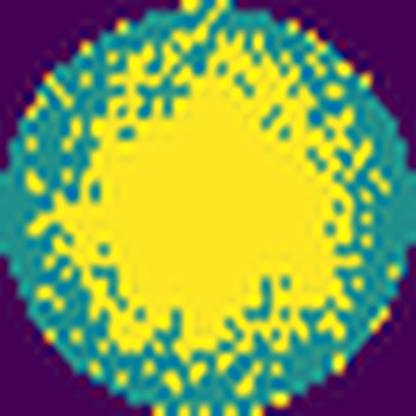Center: (53, 43, 352, 352)
